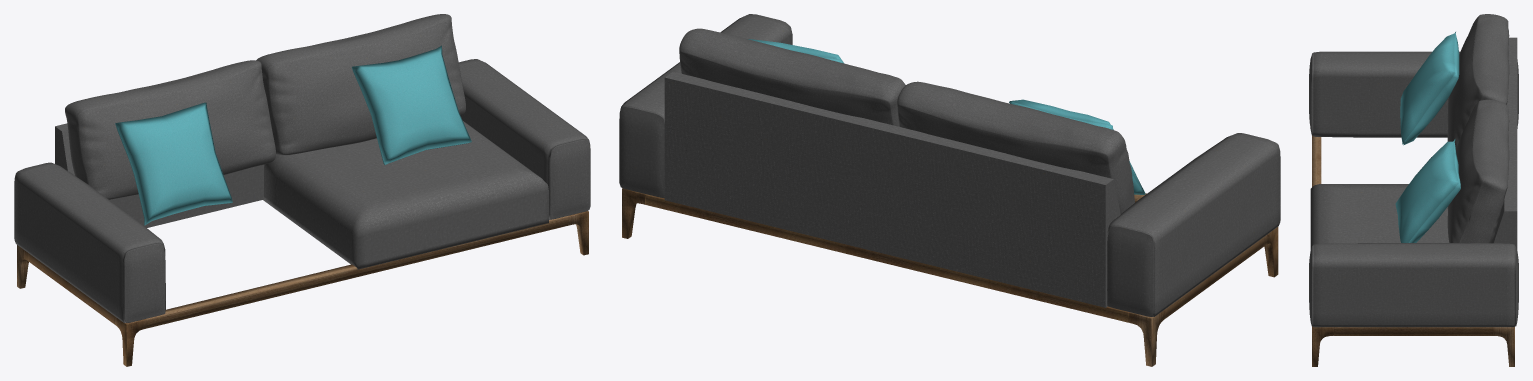
Rendered from sofa-3.gltf.
3 views of the same model, side by side, from view 1: azimuth 30°, elevation 25°; view 2: azimuth 150°, elevation 25°; view 3: azimuth 270°, elevation 25° (orthographic). The views are drawn at different scales.
Visible parts, largest first — view 1: Cube.004, Cube.006, perna_lowres.004, perna_lowres.000, Cube, perna_medie.cute_baked, perna_medie.cute_baked.001, Cube.001, C_739_canapea012; view 2: C_739_canapea012, Cube.006, perna_lowres.000, perna_lowres.004, Cube.001, Cube, perna_medie.cute_baked, perna_medie.cute_baked.001; view 3: Cube, Cube.006, perna_lowres.004, Cube.004, perna_lowres.000, perna_medie.cute_baked.001, perna_medie.cute_baked, Cube.001, C_739_canapea012.
Boxes of the visible parts, x1,y1,x2,y2 form: Cube.004: (263, 121, 548, 269); Cube.006: (14, 162, 165, 322); perna_lowres.004: (256, 14, 465, 155); perna_lowres.000: (65, 60, 275, 199); Cube: (458, 59, 590, 219); perna_medie.cute_baked: (115, 102, 232, 225); perna_medie.cute_baked.001: (351, 45, 471, 164); Cube.001: (17, 211, 588, 366); C_739_canapea012: (55, 123, 264, 227); C_739_canapea012: (664, 71, 1120, 307); Cube.006: (1107, 133, 1280, 316); perna_lowres.000: (897, 81, 1134, 214); perna_lowres.004: (679, 28, 905, 126); Cube.001: (622, 188, 1278, 366); Cube: (619, 14, 792, 198); perna_medie.cute_baked: (1009, 99, 1145, 194); perna_medie.cute_baked.001: (748, 39, 844, 63); Cube: (1309, 243, 1518, 327); Cube.006: (1309, 51, 1518, 137); perna_lowres.004: (1447, 99, 1509, 243); Cube.004: (1310, 184, 1449, 249); perna_lowres.000: (1447, 14, 1509, 150); perna_medie.cute_baked.001: (1395, 139, 1460, 242); perna_medie.cute_baked: (1400, 32, 1459, 145); Cube.001: (1312, 135, 1514, 366); C_739_canapea012: (1491, 37, 1517, 249).
Size of the model in its own units: 2.29 by 0.8499 by 0.962.
Materials: 4 (4 with a texture image).
